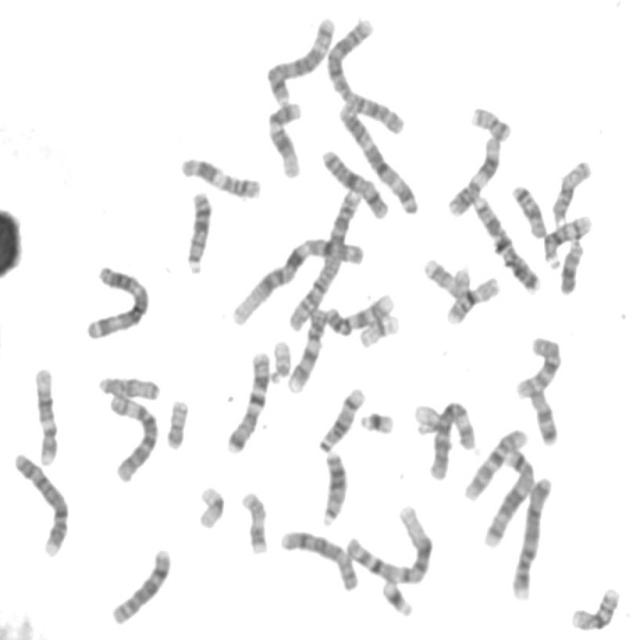A1: (228, 232, 365, 329), (341, 500, 436, 587)
A2: (284, 183, 365, 333), (323, 12, 410, 136)
A3: (335, 96, 421, 216), (83, 258, 153, 340)
B4: (9, 447, 72, 558), (508, 470, 556, 602)
B5: (263, 10, 339, 106), (479, 443, 538, 549)
C10: (460, 422, 530, 502), (512, 332, 565, 401)
C11: (444, 130, 504, 218), (176, 151, 264, 200)
C12: (263, 95, 305, 179), (30, 361, 61, 468)
C6: (106, 388, 162, 484), (426, 395, 480, 482)
C7: (469, 188, 544, 295), (222, 346, 274, 456)
C8: (276, 524, 362, 594), (108, 542, 174, 627)
C9: (285, 302, 331, 393), (322, 288, 397, 336)
D13: (182, 186, 214, 276), (318, 445, 350, 528)
D14: (316, 382, 368, 454), (541, 208, 594, 270)
D15: (548, 154, 594, 227), (95, 370, 163, 402)
E16: (442, 269, 503, 326), (567, 581, 623, 633)
E17: (419, 252, 474, 301), (237, 485, 272, 557)
E18: (509, 180, 550, 240), (526, 381, 561, 448)
F19: (355, 308, 403, 350), (194, 480, 228, 531)
F20: (468, 100, 514, 143), (162, 393, 192, 452)
G21: (378, 574, 417, 619), (356, 405, 397, 436)
G22: (410, 397, 446, 437), (267, 333, 294, 384)
X: (318, 143, 392, 221)
Y: (556, 235, 587, 296)
